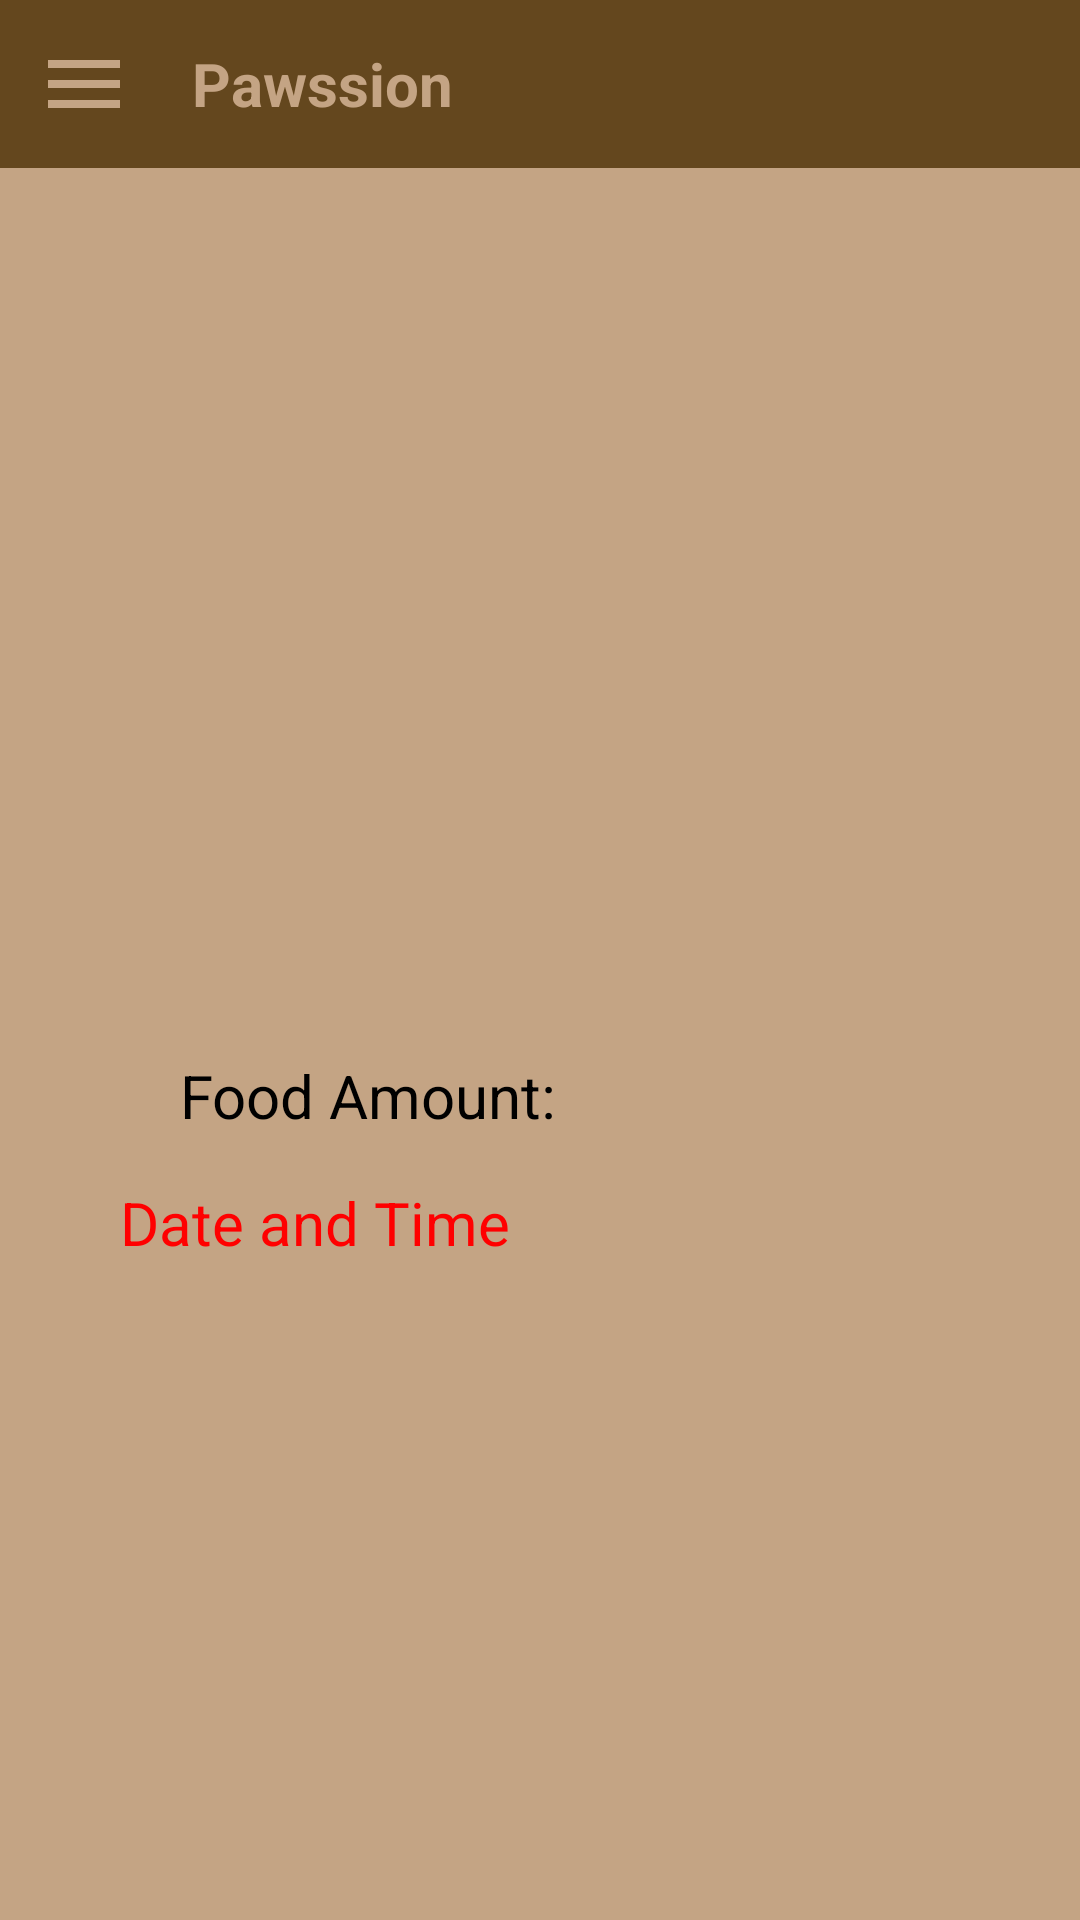

Locate icon controls on the screen. Image size 1080 × 1920, boxes as (x1, y1, x2, y2).
menu: (48, 60, 120, 108)
